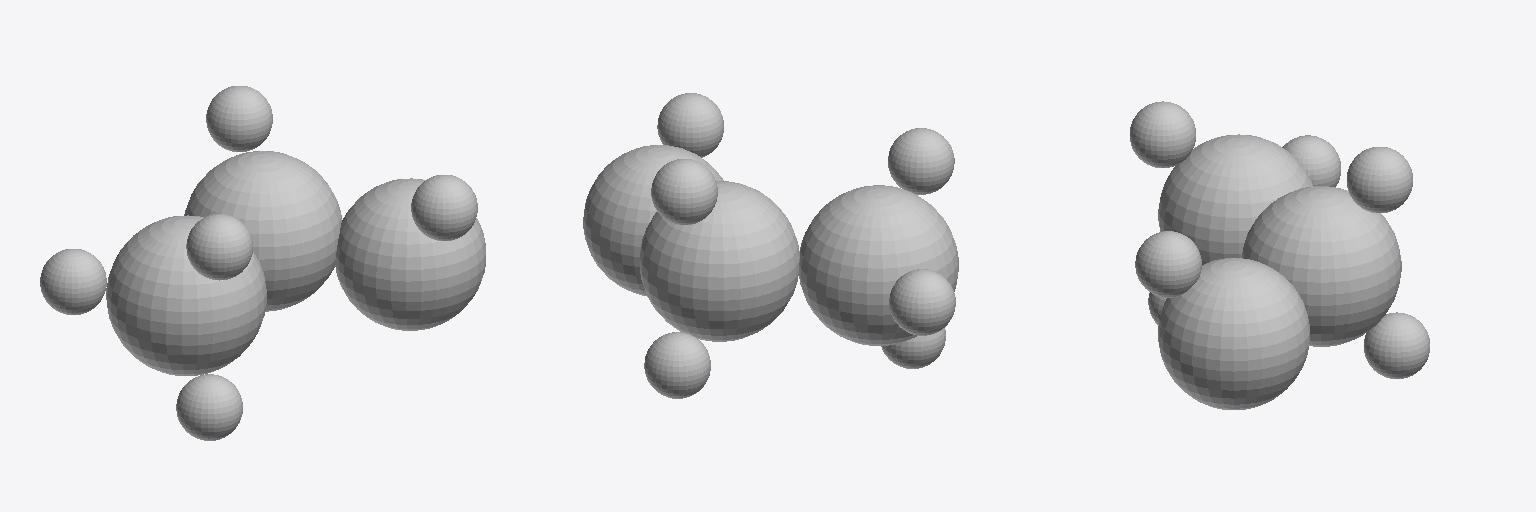
File: ethanol.fixed.obj
3 views of the same model, side by side, from view 1: azimuth 30°, elevation 25°; view 2: azimuth 150°, elevation 25°; view 3: azimuth 270°, elevation 25° (orthographic).
Parts seen in each view (by area): view 1: Carbon_ball_NURBS球.001, Hydrogen_ball_NURBS球, Oxygen_ball_NURBS球.002; view 2: Carbon_ball_NURBS球.001, Hydrogen_ball_NURBS球, Oxygen_ball_NURBS球.002; view 3: Carbon_ball_NURBS球.001, Oxygen_ball_NURBS球.002, Hydrogen_ball_NURBS球.
Part boxes in pixels (x1,y1,x2,y2): Carbon_ball_NURBS球.001: (106, 151, 341, 375); Hydrogen_ball_NURBS球: (40, 86, 477, 440); Oxygen_ball_NURBS球.002: (335, 178, 485, 330); Carbon_ball_NURBS球.001: (640, 181, 958, 345); Hydrogen_ball_NURBS球: (644, 93, 955, 398); Oxygen_ball_NURBS球.002: (583, 145, 723, 296); Carbon_ball_NURBS球.001: (1158, 134, 1401, 346); Oxygen_ball_NURBS球.002: (1158, 258, 1309, 409); Hydrogen_ball_NURBS球: (1130, 101, 1429, 378).
Bounding box in the file's own units: 4.36 × 2.59 × 2.88.